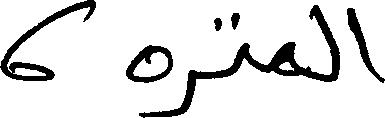X: (0, 0, 93, 85), (125, 40, 172, 117), (347, 3, 384, 87), (313, 0, 339, 86), (175, 65, 196, 117), (274, 37, 297, 80), (237, 8, 250, 75)
